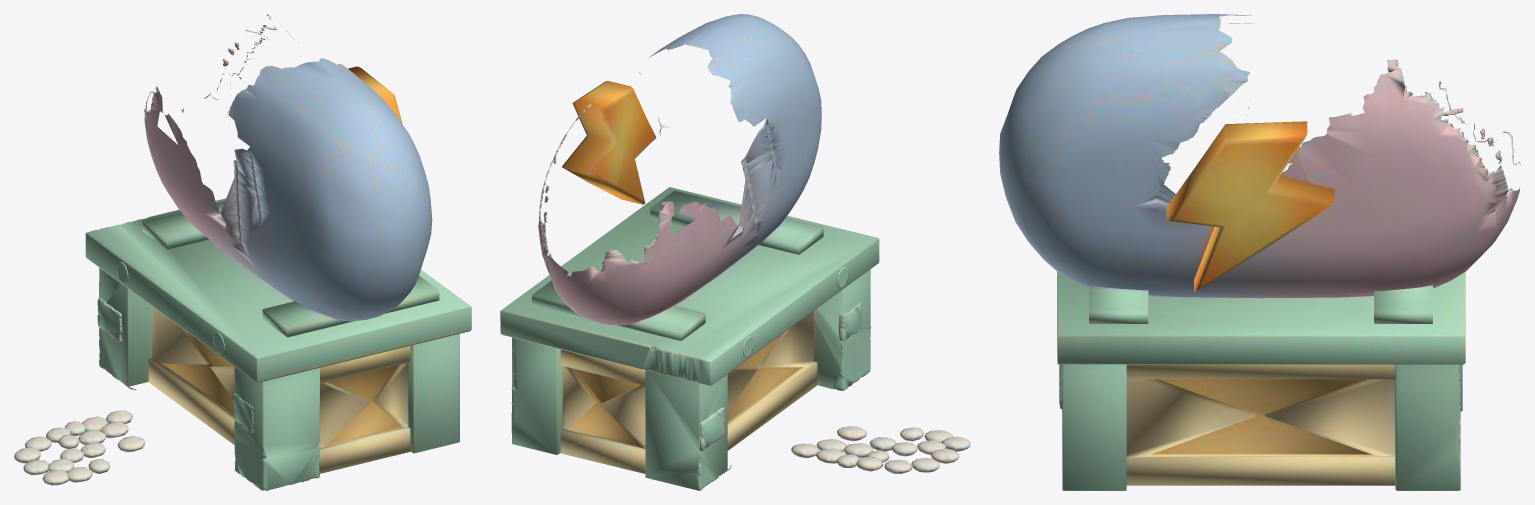
File: boost_pack.glb
The picture shows the model from 3 angles, left to right: view 1: azimuth 30°, elevation 25°; view 2: azimuth 150°, elevation 25°; view 3: azimuth 270°, elevation 25°; orthographic projection. The views are drawn at different scales.
Visible parts, largest first — view 1: tripo_node_cb0072a5-62b3-41cb-966f-537c3f32088f; view 2: tripo_node_cb0072a5-62b3-41cb-966f-537c3f32088f; view 3: tripo_node_cb0072a5-62b3-41cb-966f-537c3f32088f.
Boxes of the visible parts, left/top/right/bottom form: tripo_node_cb0072a5-62b3-41cb-966f-537c3f32088f: left=14, top=14, right=471, bottom=490; tripo_node_cb0072a5-62b3-41cb-966f-537c3f32088f: left=500, top=14, right=970, bottom=490; tripo_node_cb0072a5-62b3-41cb-966f-537c3f32088f: left=999, top=14, right=1520, bottom=490.
Bounding box in the file's own units: 0.9746 × 0.8867 × 0.998.
1 material, 1 textured.
